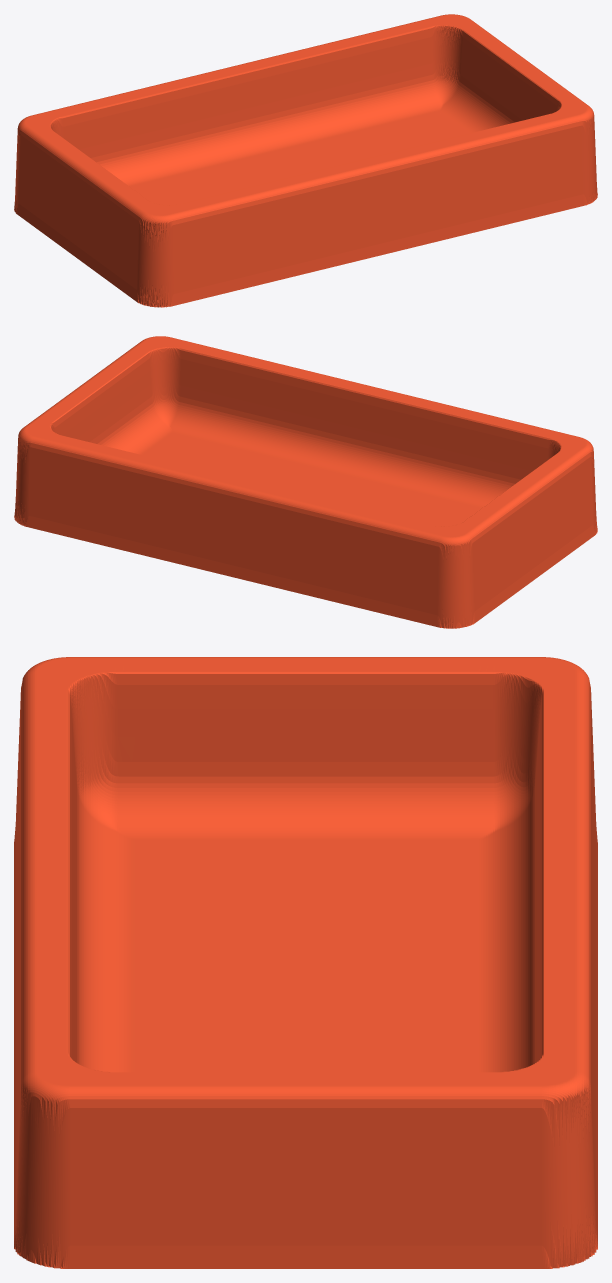
The model's file is mold.glb.
The picture shows the model from 3 angles, top to bottom: view 1: azimuth 30°, elevation 25°; view 2: azimuth 150°, elevation 25°; view 3: azimuth 270°, elevation 25°; orthographic projection. The views are drawn at different scales.
Parts seen in each view (by area): view 1: geometry_0; view 2: geometry_0; view 3: geometry_0.
Boxes of the visible parts, x1,y1,x2,y2 form: geometry_0: (14, 14, 597, 307); geometry_0: (14, 336, 597, 628); geometry_0: (14, 657, 597, 1268).
Bounding box in the file's own units: 0.1709 × 0.031 × 0.0945.
